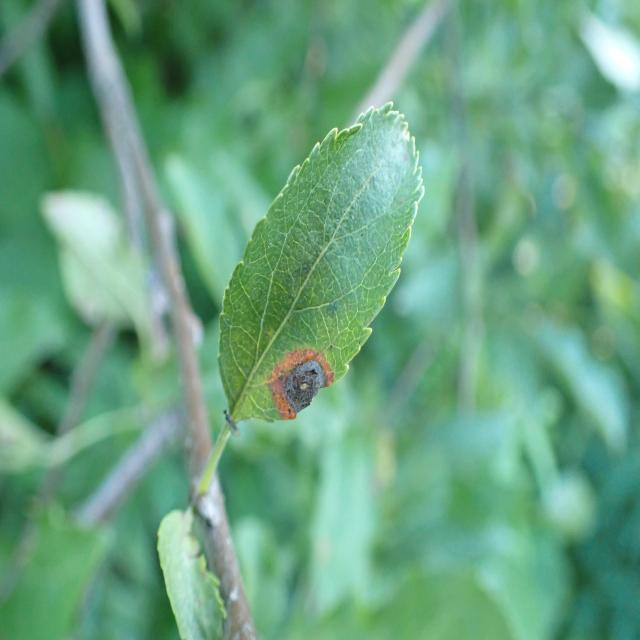Rust: (271, 301, 335, 437)
